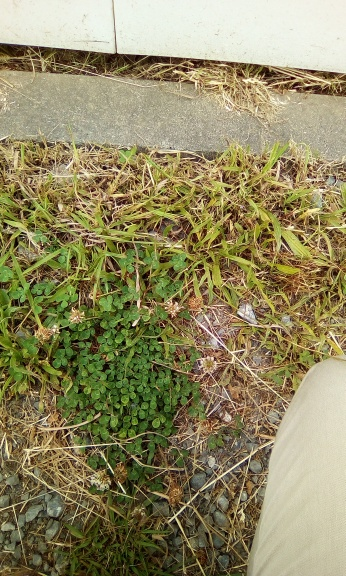4leaf: (169, 252, 187, 271)
